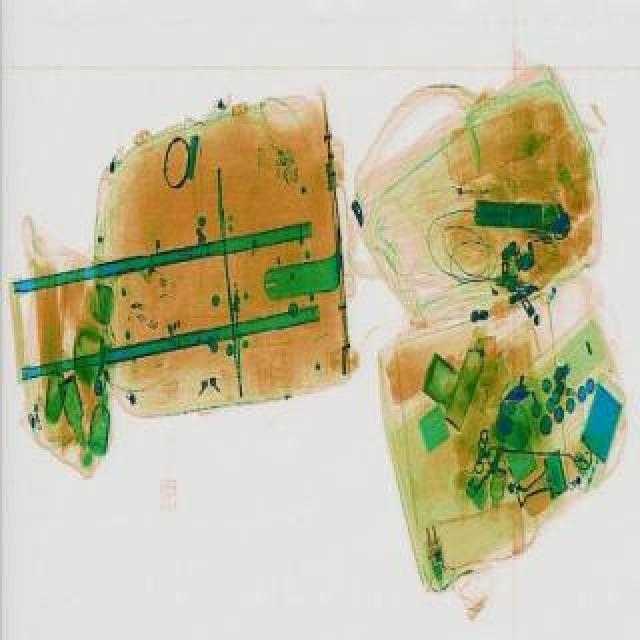pliers: (464, 444, 514, 494)
